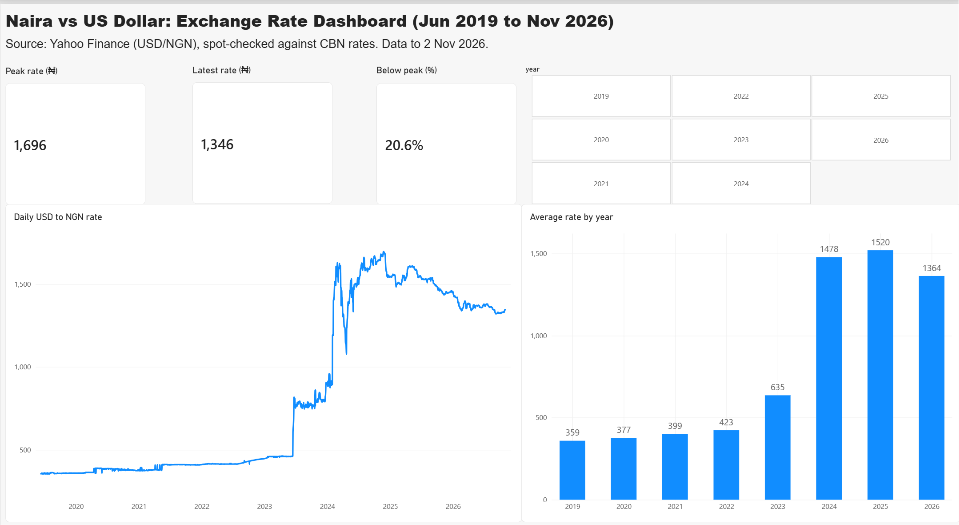

What the dashboard file says about the page in this screenshot:
{"tool":"powerbi","page":{"name":"Page 1","canvas":[1920,1080],"ordinal":0},"visuals":[{"type":"cardVisual","title":"Peak rate (₦)","fields":{"Data":["usd_ngn_clean.Peak Rate"]},"box":[9.4,121.8,280,280],"z":0},{"type":"cardVisual","title":"Latest rate (₦)","fields":{"Data":["usd_ngn_clean.Latest Rate"]},"box":[384.2,119.5,280,280],"z":1},{"type":"cardVisual","title":"Below peak (%)","fields":{"Data":["usd_ngn_clean.Below Peak %"]},"box":[752,121.8,280,280],"z":2},{"type":"lineChart","title":"Daily USD to NGN rate","fields":{"Category":["usd_ngn_clean.date"],"Y":["Avg(usd_ngn_clean.usd_to_ngn)"]},"box":[9.4,400.6,1033.2,637.2],"z":3},{"type":"clusteredColumnChart","title":"Average rate by year","fields":{"Category":["usd_ngn_clean.year"],"Y":["Avg(usd_ngn_clean.usd_to_ngn)"]},"box":[1042.5,400.6,878.5,637.2],"z":4},{"type":"slicer","fields":{"Values":["usd_ngn_clean.year"]},"box":[1042.5,121.8,877,280],"z":5},{"type":"textbox","box":[9.4,9.4,1302.6,112.5],"z":6},{"type":"textbox","box":[9.4,65.6,1110.5,63.3],"z":7}]}

Visuals, with their boxes in screenshot pixels (x1, y1, x2, y2), scaled from the page's 1920x1080 canvas onto the 959x525 screenshot:
"Peak rate (₦)" cardVisual: left=5, top=59, right=145, bottom=195
"Latest rate (₦)" cardVisual: left=192, top=58, right=332, bottom=194
"Below peak (%)" cardVisual: left=376, top=59, right=515, bottom=195
"Daily USD to NGN rate" lineChart: left=5, top=195, right=521, bottom=504
"Average rate by year" clusteredColumnChart: left=521, top=195, right=958, bottom=504
slicer - usd_ngn_clean.year: left=521, top=59, right=958, bottom=195
textbox: left=5, top=5, right=655, bottom=59
textbox: left=5, top=32, right=559, bottom=63
